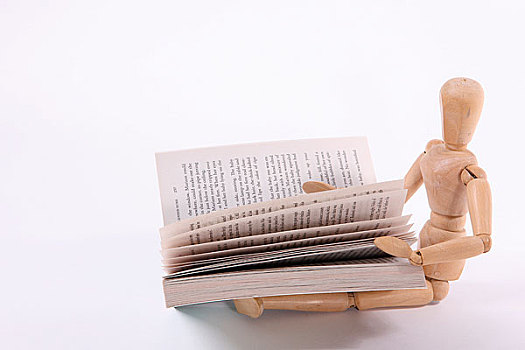book: (147, 134, 430, 310)
